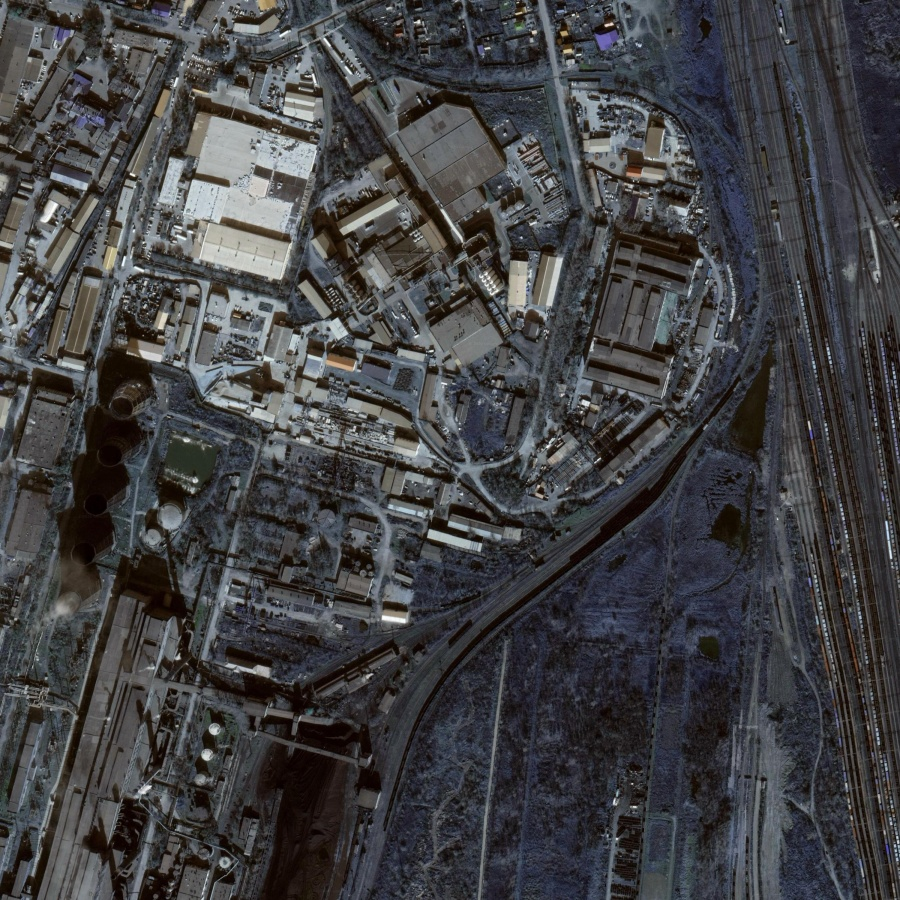PowerPlant: (25, 331, 195, 670)
